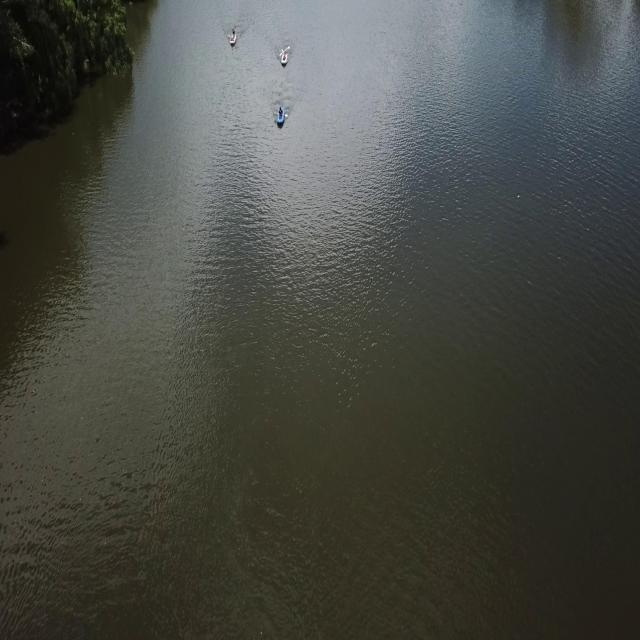kayak: (275, 103, 287, 130), (279, 48, 289, 68), (228, 27, 237, 47)
